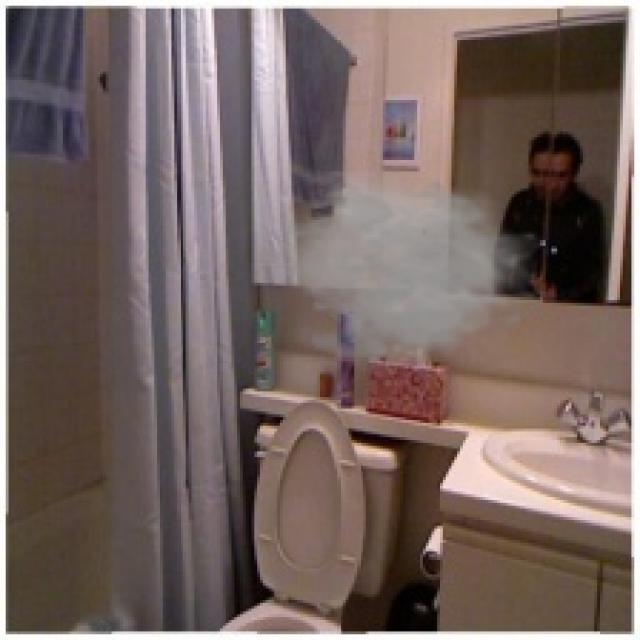smoke: (268, 171, 548, 380)
